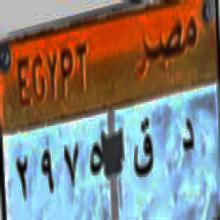2: (15, 155, 31, 208)
5: (88, 137, 104, 184)
7: (62, 138, 82, 193)
9: (40, 145, 57, 196)
daal: (178, 108, 195, 160)
qaaf: (132, 115, 154, 192)
